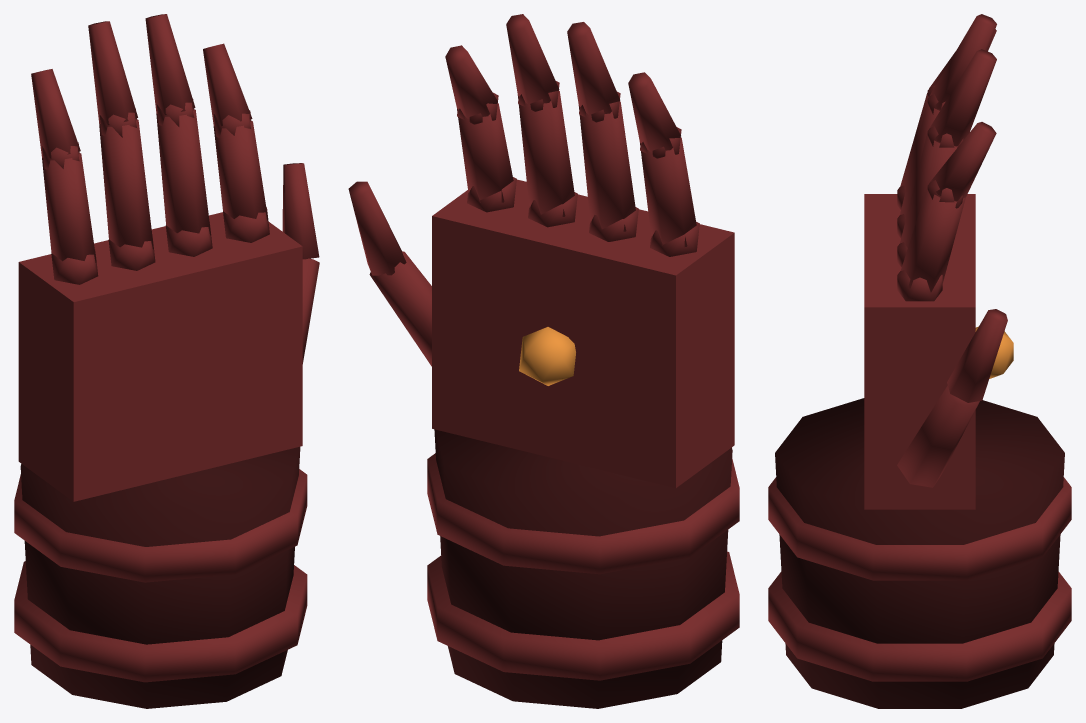
File: fetid_baghnakhs.glb
The picture shows the model from 3 angles, left to right: view 1: azimuth 30°, elevation 25°; view 2: azimuth 150°, elevation 25°; view 3: azimuth 270°, elevation 25°; orthographic projection. The views are drawn at different scales.
Visible parts, largest first — view 1: fetid_baghnakhs_v0; view 2: fetid_baghnakhs_v0; view 3: fetid_baghnakhs_v0.
Boxes of the visible parts, x1,y1,x2,y2 form: fetid_baghnakhs_v0: (14, 14, 319, 708); fetid_baghnakhs_v0: (348, 14, 739, 708); fetid_baghnakhs_v0: (768, 14, 1071, 708).
Bounding box in the file's own units: 0.1595 × 0.309 × 0.136.
